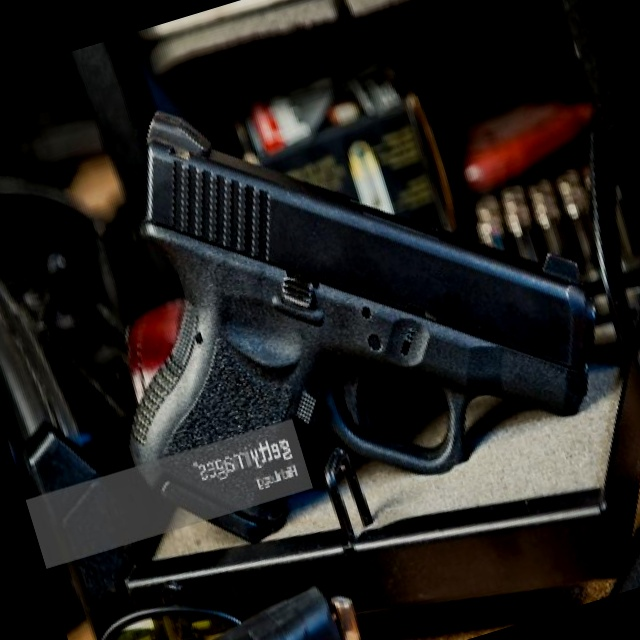gun: (29, 0, 627, 562)
